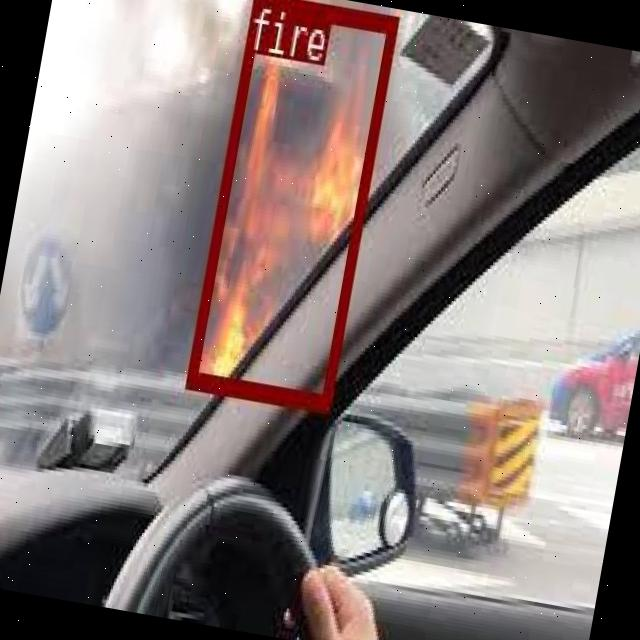fire: (185, 0, 397, 408)
